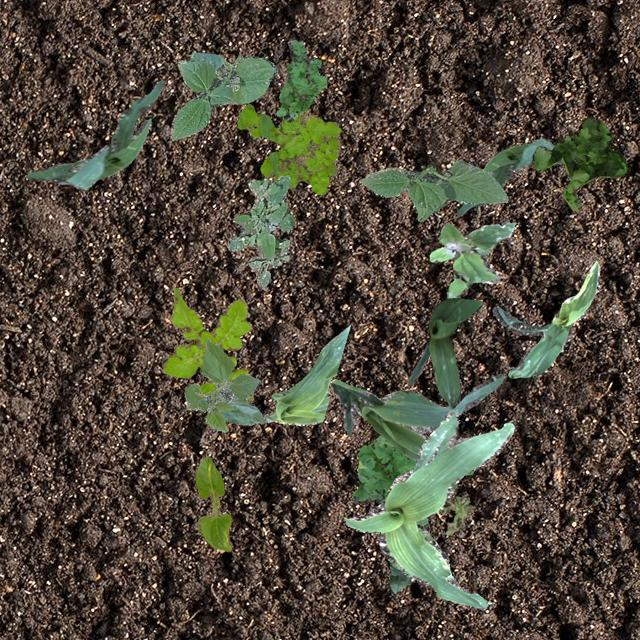crop: (342, 410, 514, 608), (330, 372, 504, 460), (26, 80, 162, 188), (492, 260, 598, 378), (170, 50, 276, 140), (360, 160, 508, 220), (263, 324, 349, 424), (408, 296, 482, 408), (456, 137, 562, 215), (183, 338, 264, 430), (194, 454, 230, 550), (388, 562, 412, 594)
weed: (162, 287, 252, 401), (530, 116, 630, 210), (236, 104, 340, 194), (350, 434, 472, 504), (226, 174, 292, 286), (429, 220, 513, 298), (276, 38, 326, 122), (438, 494, 474, 534)
